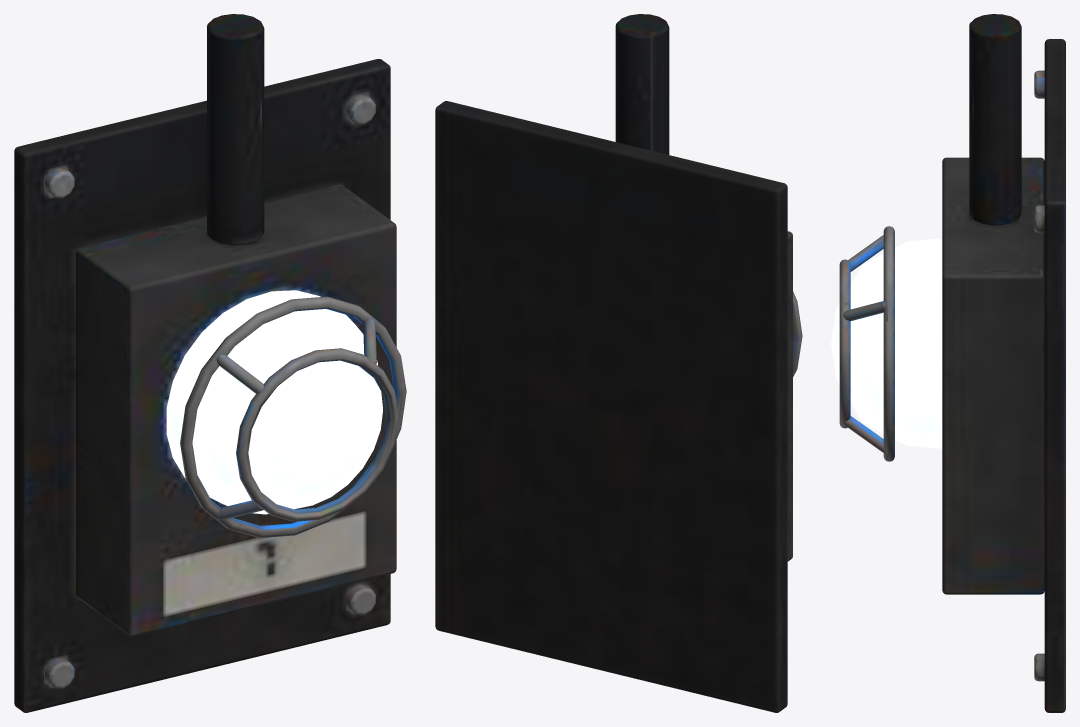
Rendered from status_light.glb.
The picture shows the model from 3 angles, left to right: view 1: azimuth 30°, elevation 25°; view 2: azimuth 150°, elevation 25°; view 3: azimuth 270°, elevation 25°; orthographic projection. The views are drawn at different scales.
Visible parts, largest first — view 1: status_light; view 2: status_light; view 3: status_light.
Part boxes in pixels (<box>): status_light: <box>14,14,406,712</box>; status_light: <box>435,14,802,712</box>; status_light: <box>831,14,1065,712</box>.
Size of the model in its own units: 0.22 by 0.38 by 0.133.
Materials: 2 (2 with a texture image).
